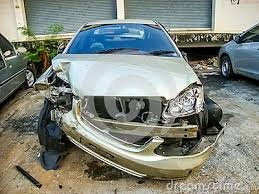Broken-glass: (42, 89, 73, 117)
Smashed: (40, 63, 207, 176)
